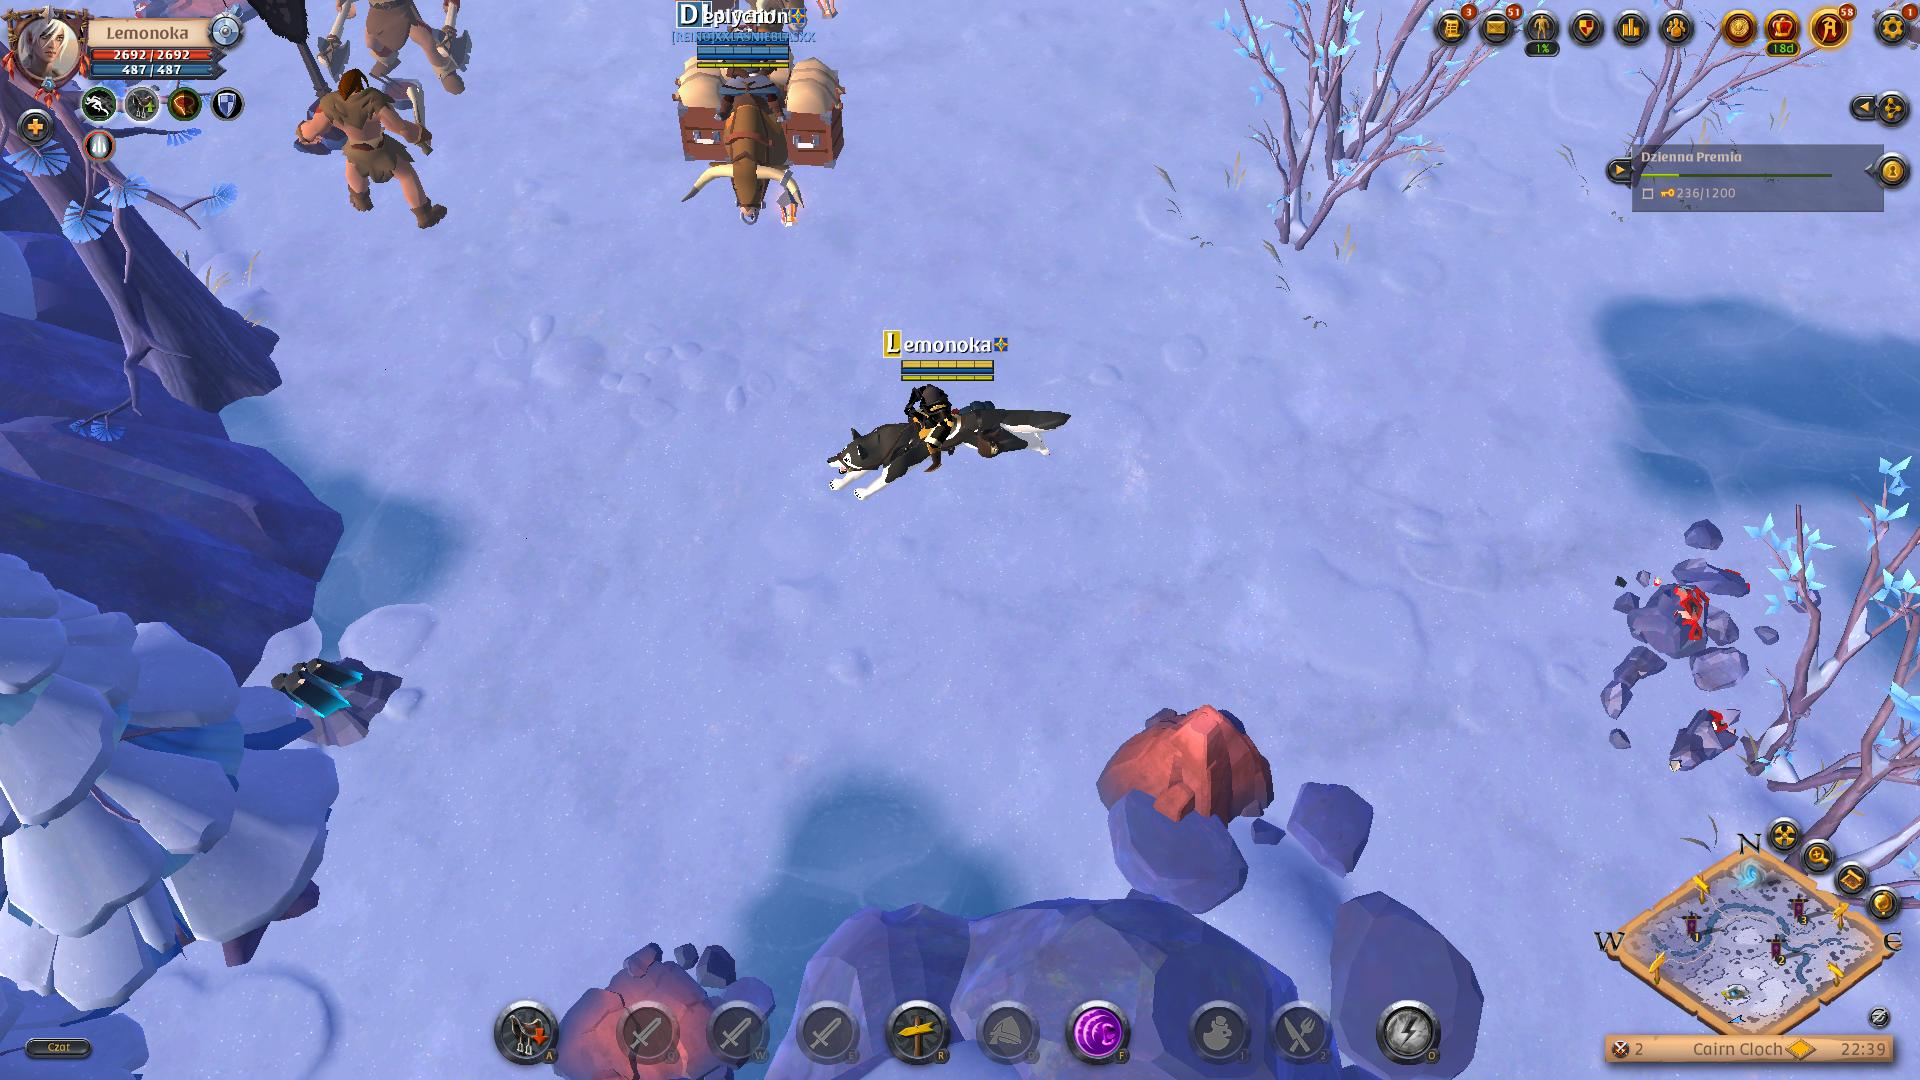ore tier 4: (272, 644, 396, 757)
rock tier 5: (1108, 695, 1275, 843)
